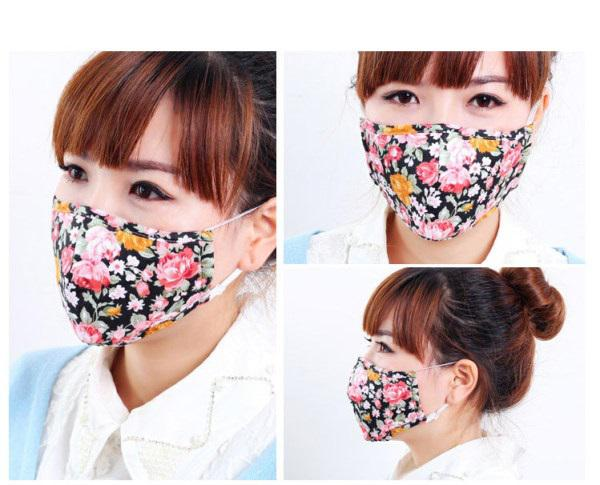OK: (40, 143, 231, 334), (357, 66, 509, 218), (339, 313, 461, 435)
